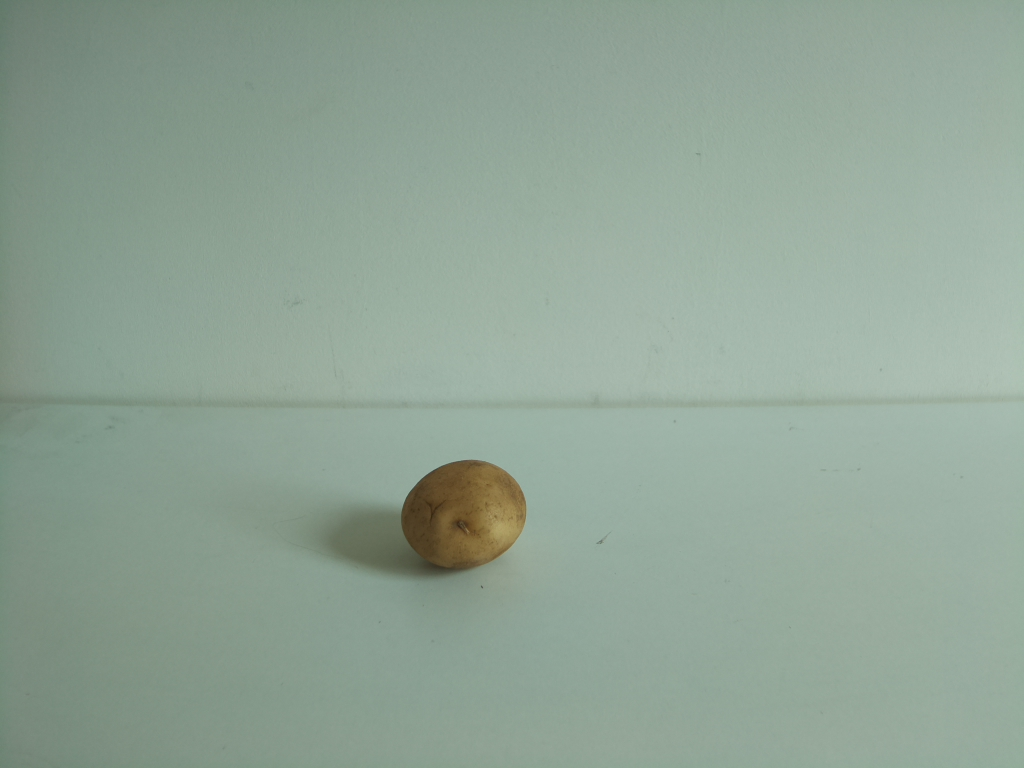potatoes: (396, 459, 529, 575)
